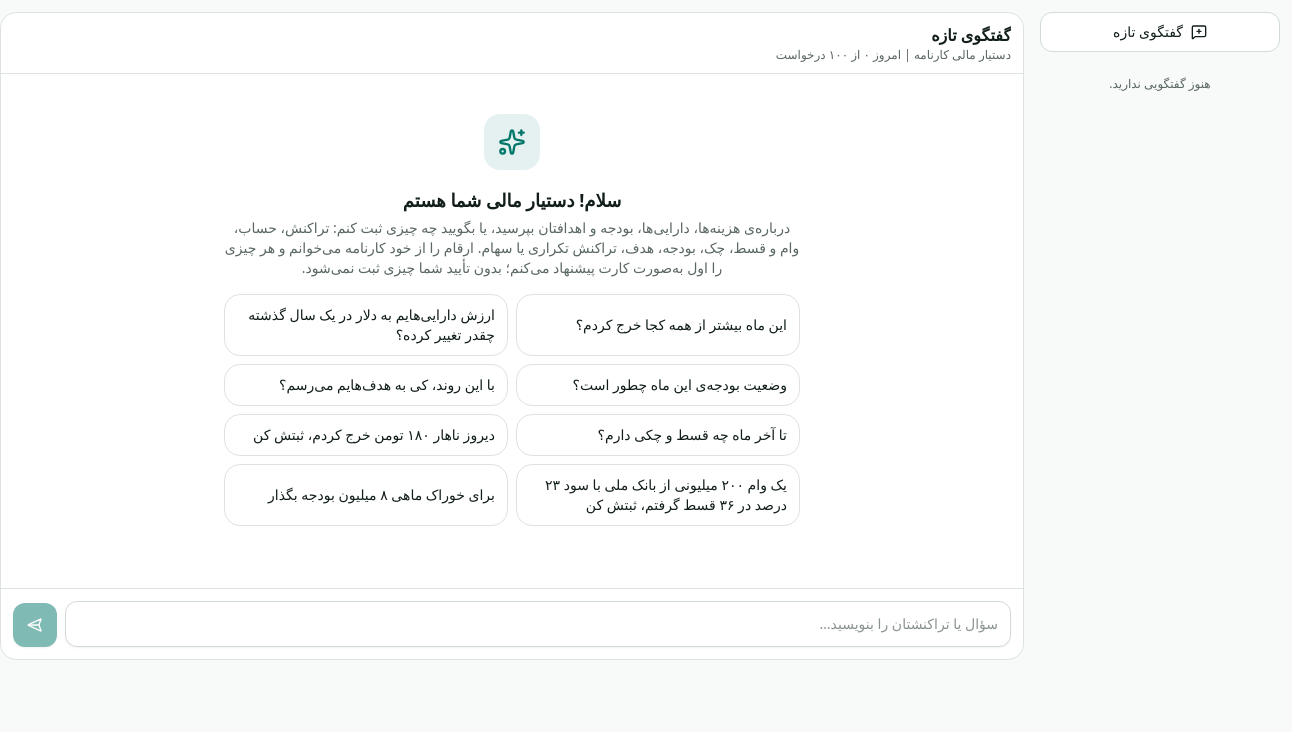
Test: AssistantPage › streams a turn live, then shows the stored conversation
The image size is (1292, 732).
Expected: the heading "سلام! دستیار مالی شما هستم" is shown, [403, 188, 621, 212]
Type "این ماه کجا بیشتر خرج کردم؟" into the text box named "پیام" at (538, 624), box [65, 601, 1011, 647]
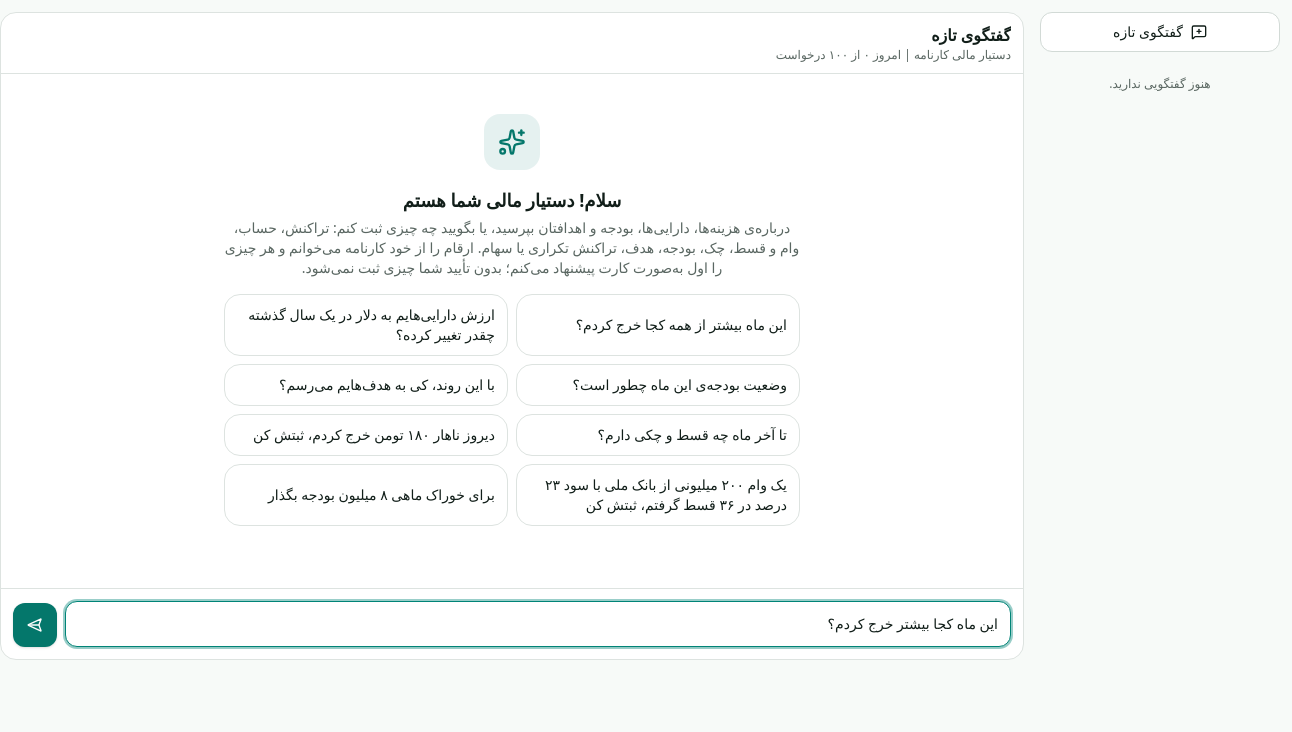
Press Enter
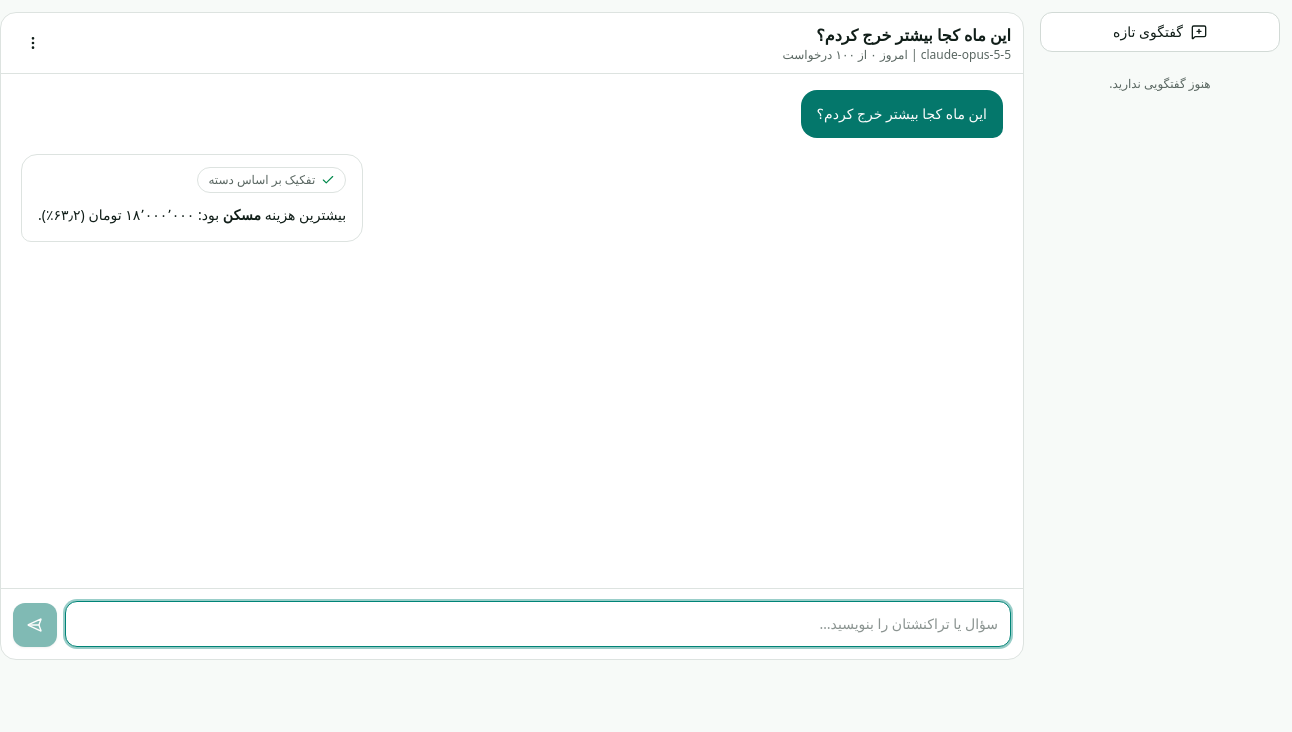
Result: the text "بیشترین هزینه مسکن بود: ۱۸٬۰۰۰٬۰۰۰ تومان (۶۳٫۲٪)." is shown at [38, 201, 346, 229]
Result: the text "تفکیک بر اساس دسته" is shown once at [197, 167, 346, 193]
Result: the text "claude-opus-5-5" is shown at [921, 47, 1011, 63]
